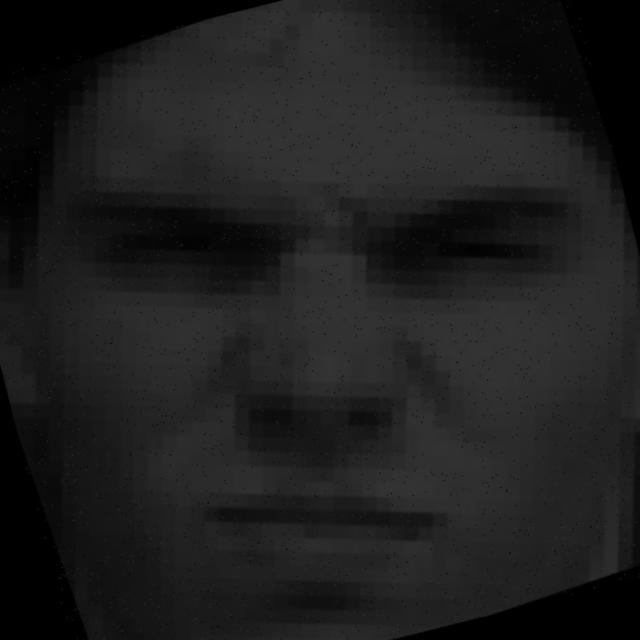Disgust: (12, 117, 617, 622)
